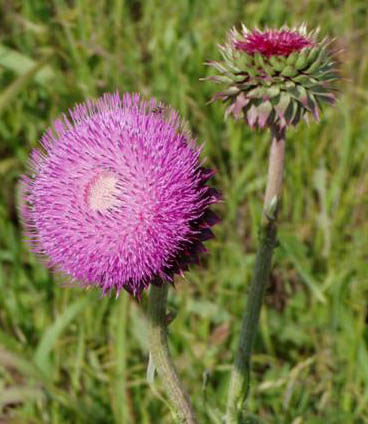thistle: (19, 93, 226, 295), (209, 23, 347, 126)
